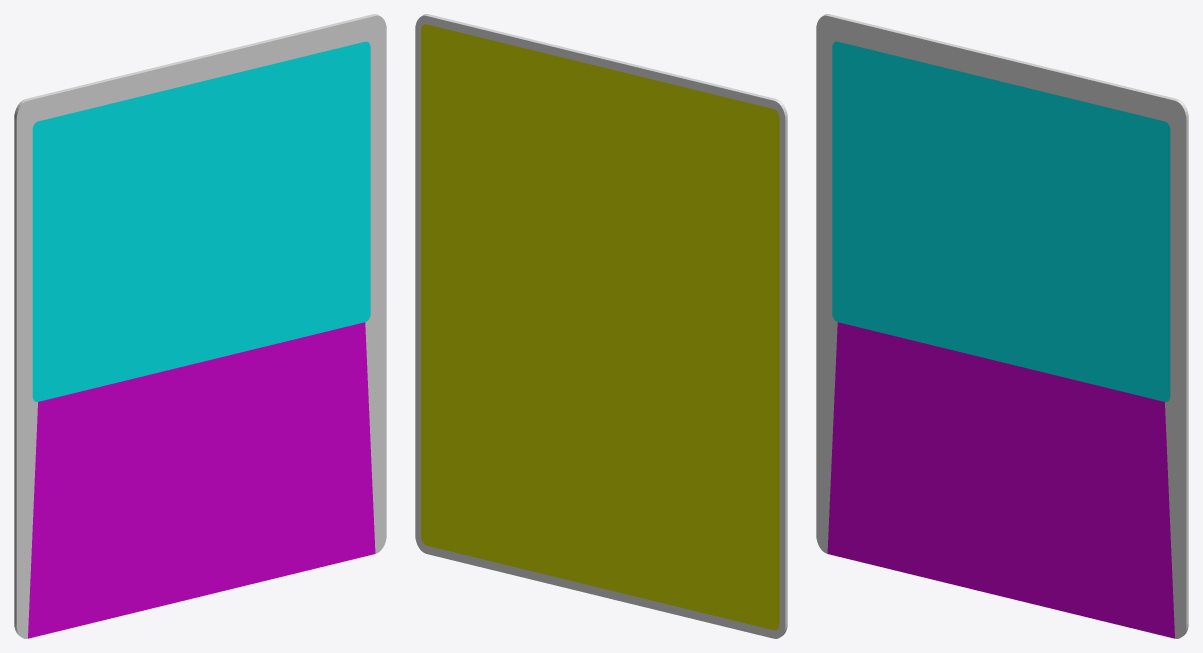
File: Tarjeta1.fbx
3 renders of one model, left to right at view 1: azimuth 30°, elevation 25°; view 2: azimuth 150°, elevation 25°; view 3: azimuth 330°, elevation 25°, orthographic.
Parts seen in each view (by area): view 1: Cube; view 2: Cube; view 3: Cube.
Part boxes in pixels (x1,y1,x2,y2): Cube: (14, 14, 386, 638); Cube: (415, 14, 787, 638); Cube: (816, 14, 1188, 638).
Bounding box in the file's own units: 360 × 500 × 4.
